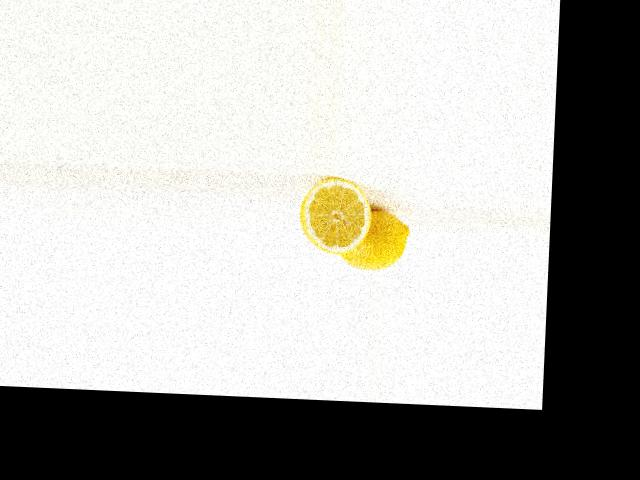lemon: (336, 201, 413, 271)
